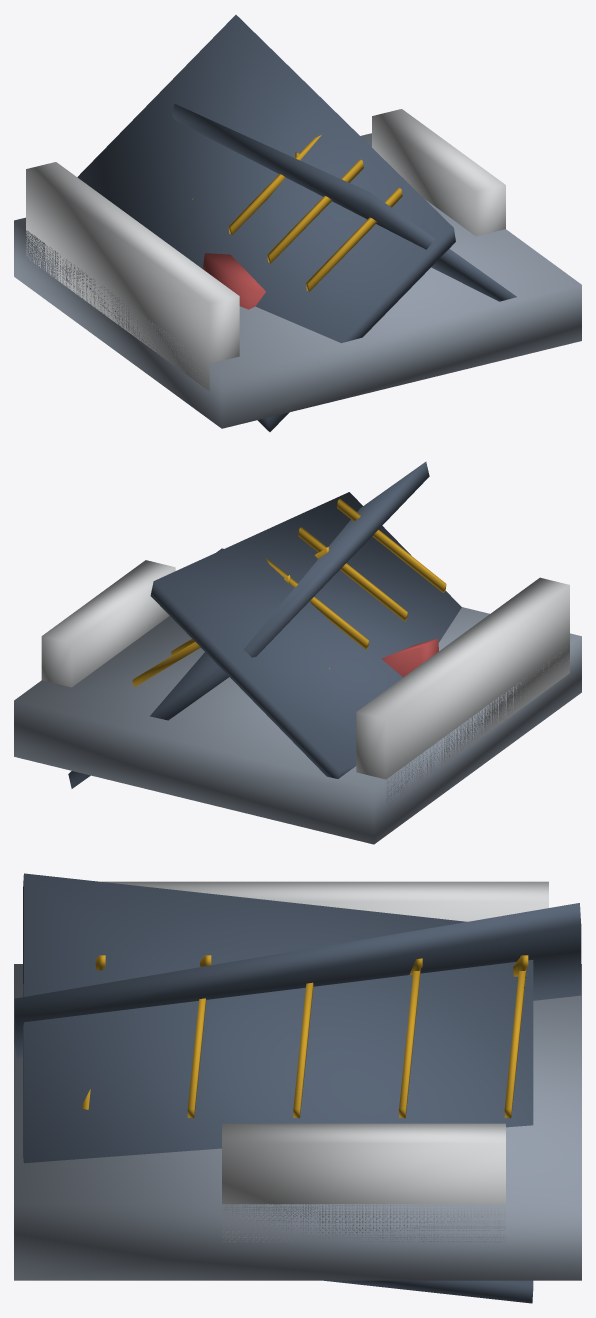
Rendered from ranch-house-wreck.glb.
3 views of the same model, one above another, from view 1: azimuth 30°, elevation 25°; view 2: azimuth 150°, elevation 25°; view 3: azimuth 270°, elevation 25° (orthographic). The views are drawn at different scales.
Parts seen in each view (by area): view 1: world; view 2: world; view 3: world.
Boxes of the visible parts, x1=… form: world: x1=14, y1=15, x2=581, y2=431; world: x1=14, y1=461, x2=581, y2=844; world: x1=14, y1=873, x2=581, y2=1303.
Bounding box in the file's own units: 10 × 6.5 × 10.
